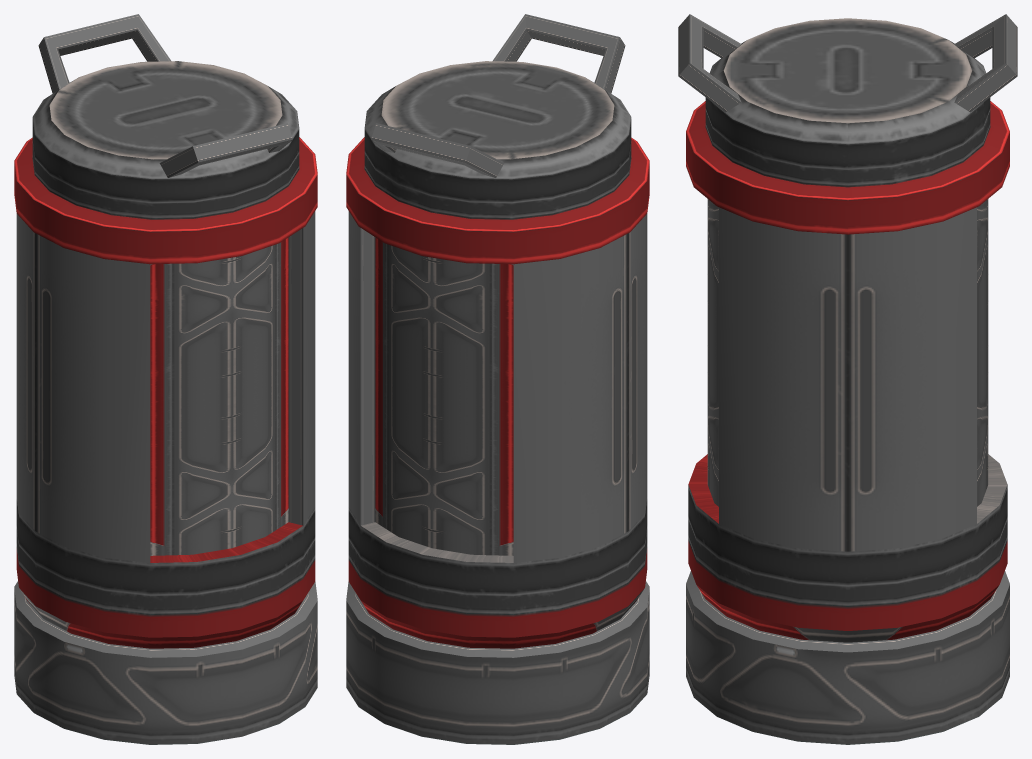
File: Prop_Barrel_Large.gltf
3 renders of one model, left to right at view 1: azimuth 30°, elevation 25°; view 2: azimuth 150°, elevation 25°; view 3: azimuth 270°, elevation 25°, orthographic. The views are drawn at different scales.
Visible parts, largest first — view 1: Prop_Barrel_Large; view 2: Prop_Barrel_Large; view 3: Prop_Barrel_Large.
Boxes of the visible parts, box(x1,y1,x2,y2) form: Prop_Barrel_Large: box(14, 14, 317, 744); Prop_Barrel_Large: box(346, 14, 649, 744); Prop_Barrel_Large: box(678, 14, 1017, 744).
Size of the model in its own units: 0.5078 by 1.1 by 0.532.
2 materials, 2 textured.
